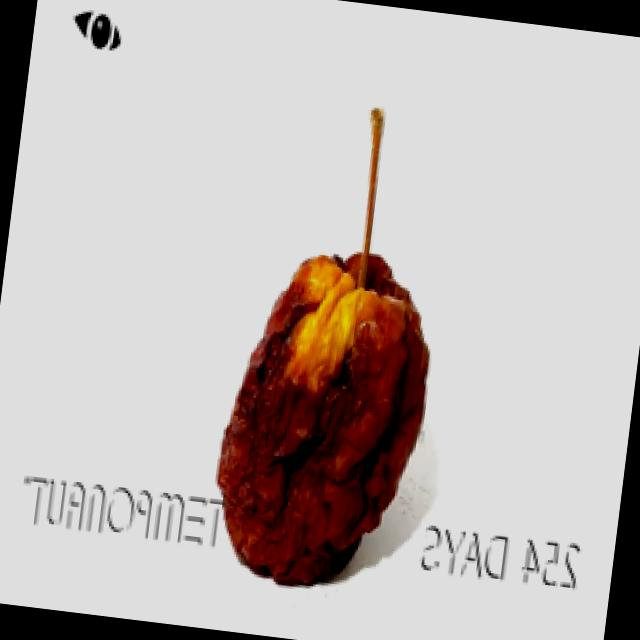Rotten_Apple: (165, 29, 484, 604)
